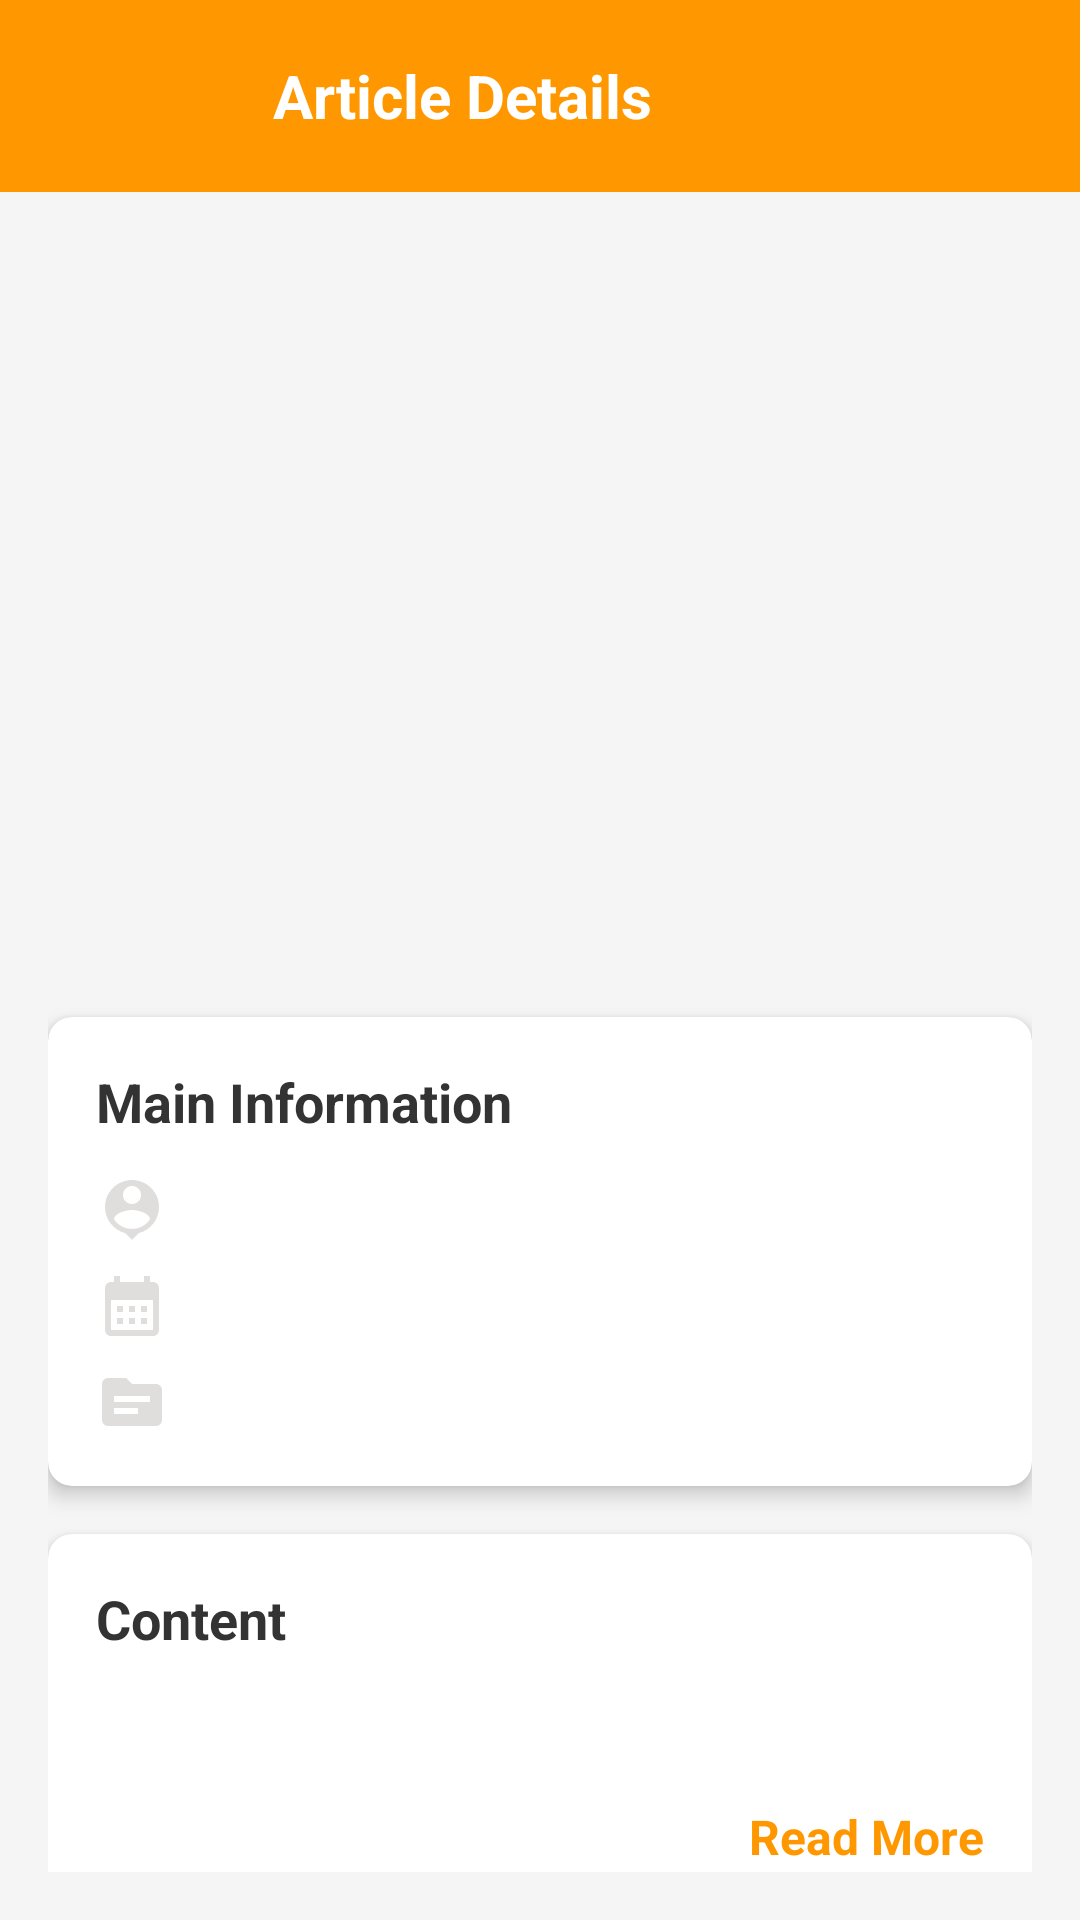

Where to tap for icons on this 1080×1920 app screen, as [x,y]:
Author Icon: [132,1209]
Calendar Icon: [132,1306]
Source Icon: [132,1402]
